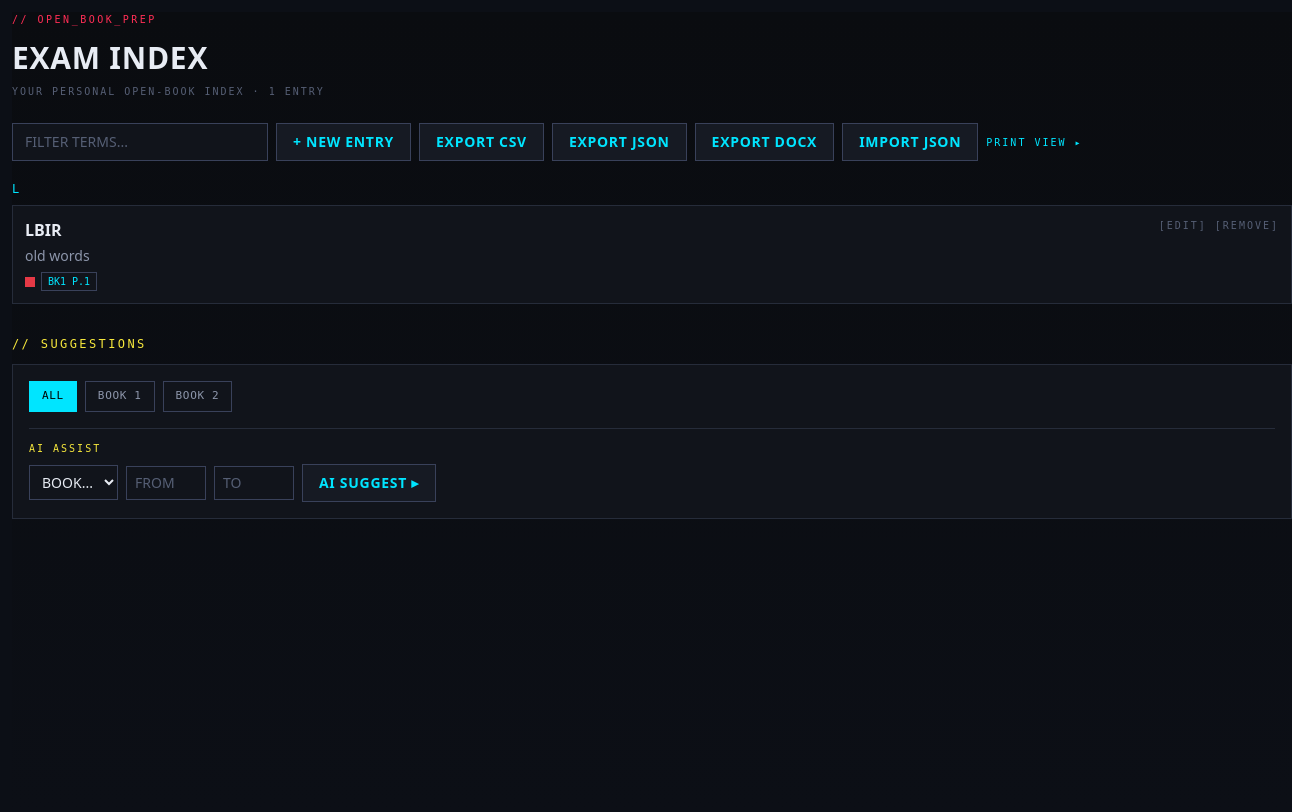
Test: inline edit saves changes to the store
Click the button "[EDIT]".
click(1183, 226)  # box [1159, 218, 1207, 233]
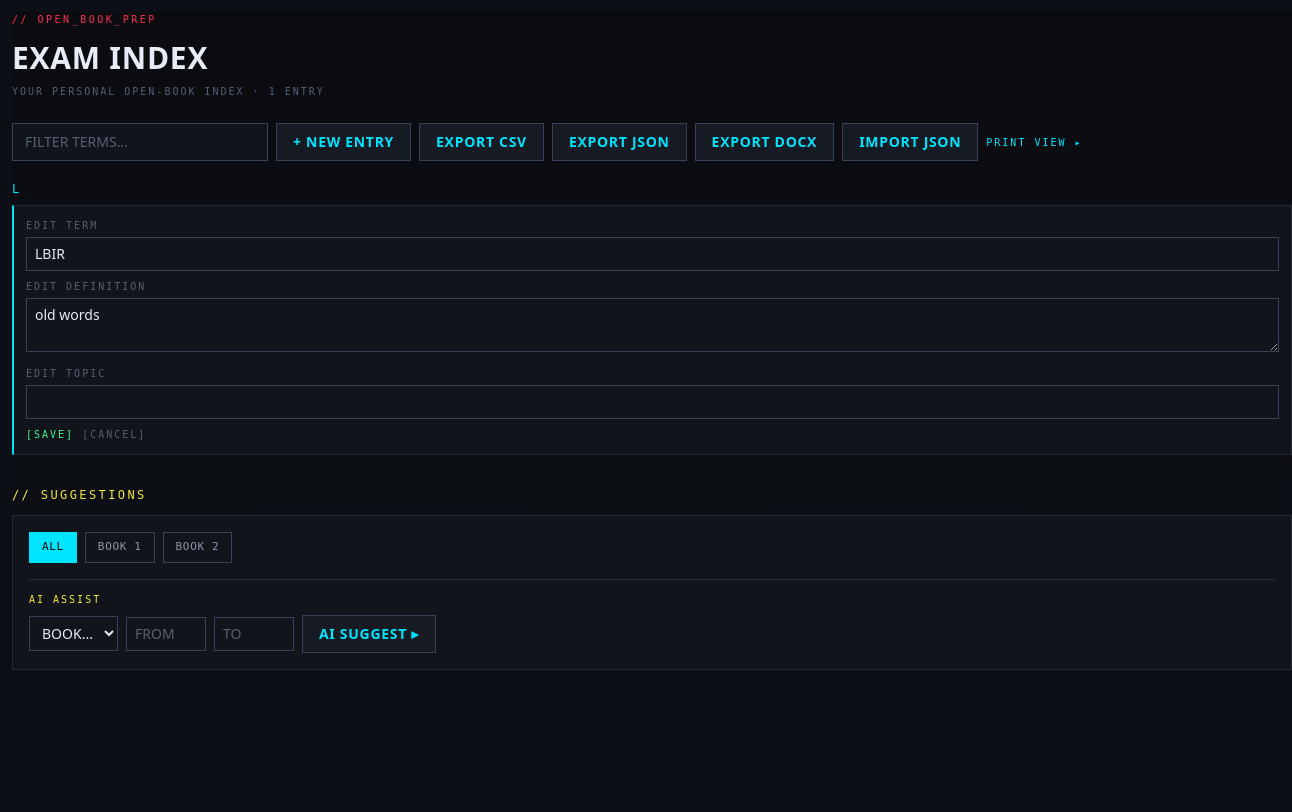
Replace the text in the text box labelled "EDIT DEFINITION" with "Lunar Base Incident Response program." at (652, 325), box [26, 298, 1279, 352]
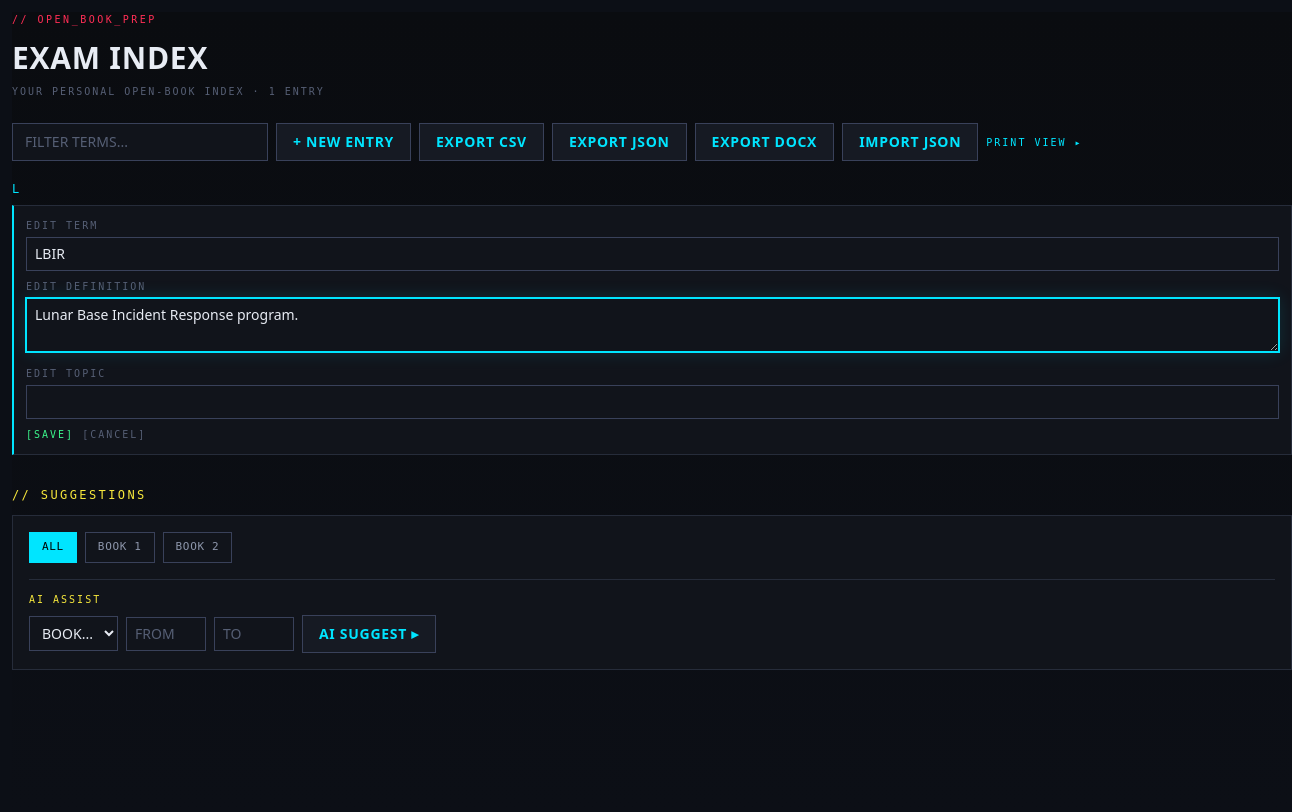
Click the button "[SAVE]".
click(50, 434)  # box [26, 427, 74, 442]
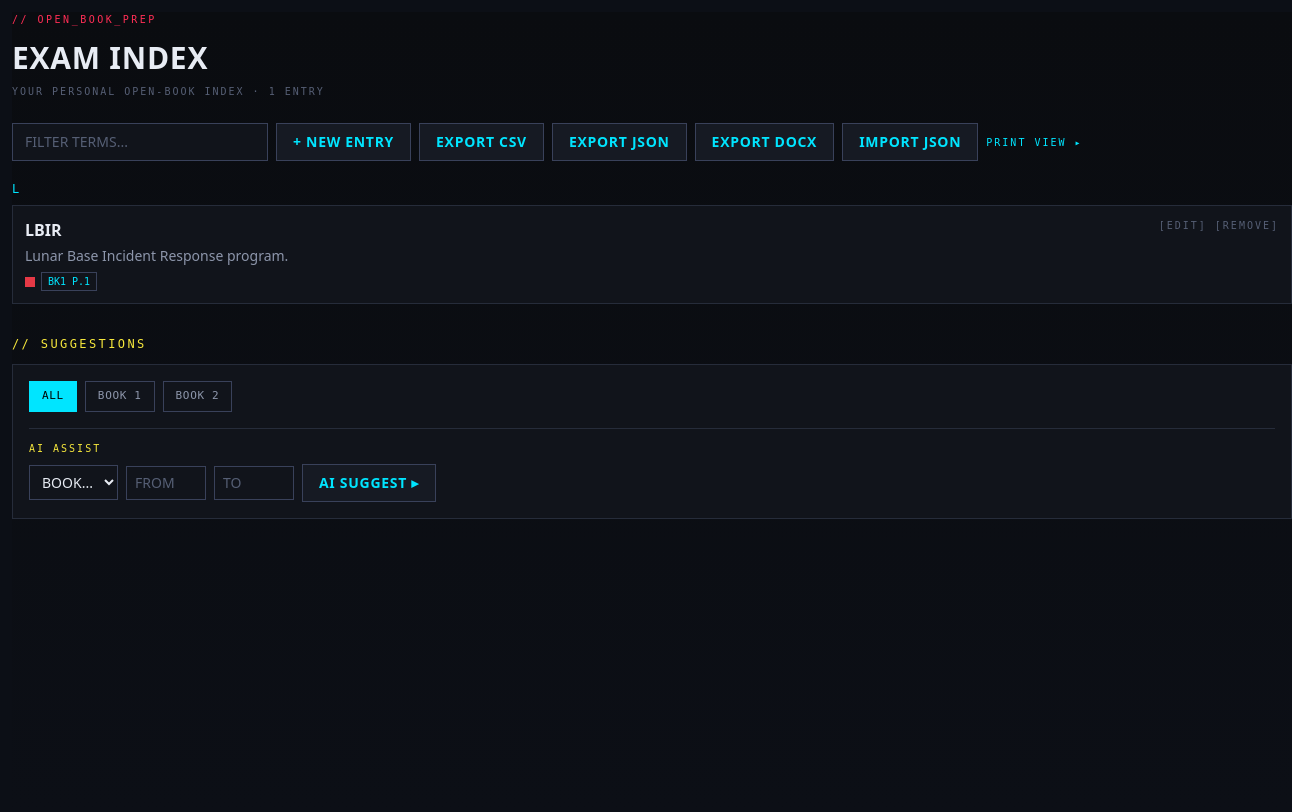
Now the text "Lunar Base Incident Response program." is shown, box [25, 246, 288, 266]
